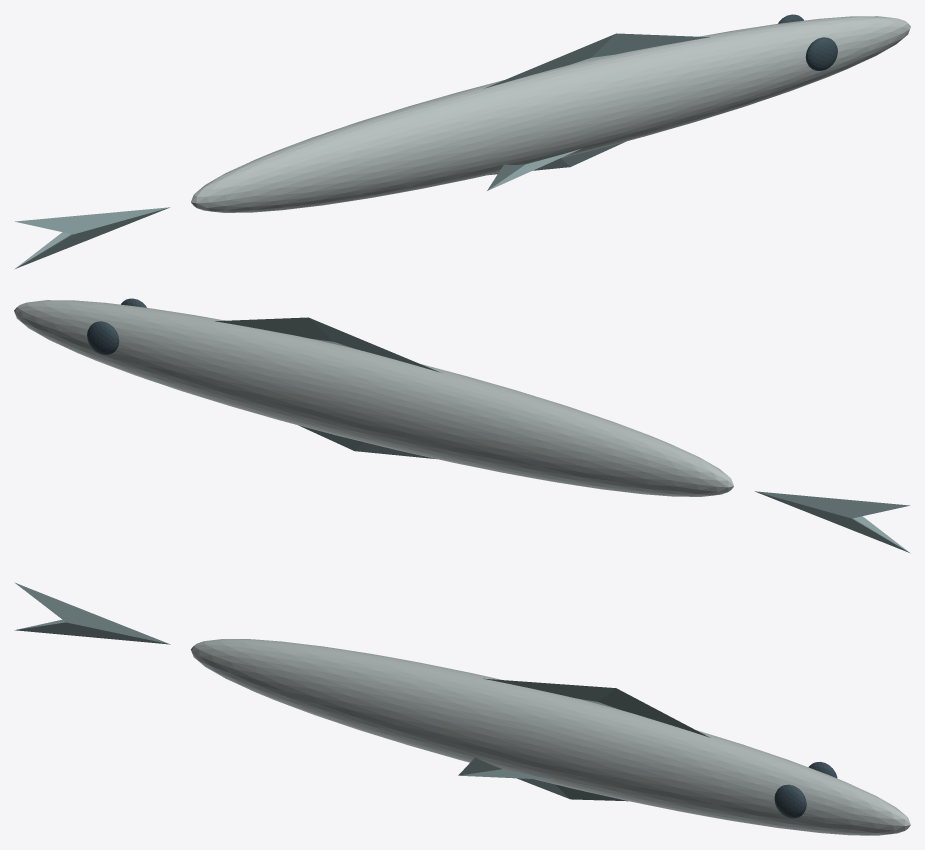
The model's file is Ikan_Alu-Alu.glb.
The picture shows the model from 3 angles, top to bottom: view 1: azimuth 30°, elevation 25°; view 2: azimuth 150°, elevation 25°; view 3: azimuth 330°, elevation 25°; orthographic projection.
Visible parts, largest first — view 1: Part_00, Part_01, Part_02, Part_05, Part_04, Part_03; view 2: Part_00, Part_01, Part_02, Part_06, Part_03; view 3: Part_00, Part_01, Part_02, Part_05, Part_04, Part_03.
Part boxes in pixels (x1,y1,x2,y2): Part_00: (191,16,910,212); Part_01: (14,207,169,269); Part_02: (484,33,709,88); Part_05: (805,37,837,70); Part_04: (487,148,581,190); Part_03: (488,141,626,175); Part_00: (14,300,733,496); Part_01: (755,491,910,553); Part_02: (215,317,440,372); Part_06: (87,321,119,354); Part_03: (298,425,436,459); Part_00: (191,639,910,835); Part_01: (14,582,170,644); Part_02: (483,678,709,737); Part_05: (774,784,806,818); Part_04: (458,757,554,779); Part_03: (517,778,627,801).
Size of the model in its own units: 2.19 by 0.286 by 0.1682.
